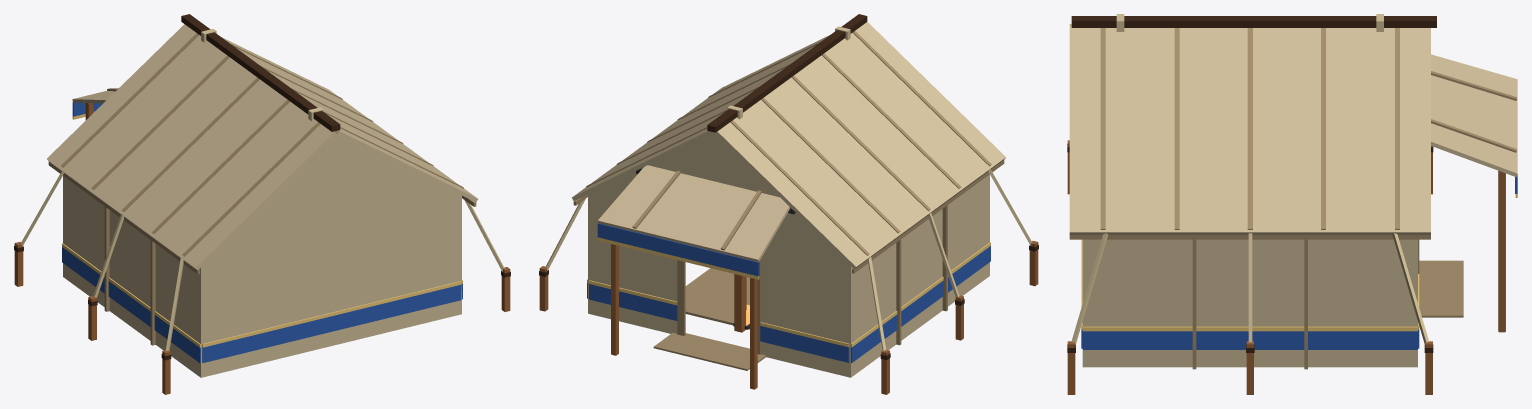
File: 中等帐篷_低模.glb
The picture shows the model from 3 angles, left to right: view 1: azimuth 30°, elevation 25°; view 2: azimuth 150°, elevation 25°; view 3: azimuth 270°, elevation 25°; orthographic projection. The views are drawn at different scales.
Parts seen in each view (by area): view 1: BR-canvas, BR-canvas_dark, BR-team, BR-wood_dark, BR-team_trim, BR-site_rope, BR-wood_warm; view 2: BR-canvas, BR-canvas_dark, BR-team, BR-wood_warm, BR-wood_dark, BR-team_trim, BR-site_rope; view 3: BR-canvas, BR-canvas_dark, BR-team, BR-wood_dark, BR-wood_warm, BR-team_trim, BR-site_rope.
Boxes of the visible parts, box(x1,y1,x2,y2) form: BR-canvas: box(47, 24, 477, 377); BR-canvas_dark: box(48, 33, 476, 345); BR-team: box(62, 102, 462, 363); BR-wood_dark: box(14, 14, 510, 360); BR-team_trim: box(62, 111, 462, 347); BR-site_rope: box(20, 29, 504, 350); BR-wood_warm: box(14, 103, 510, 394); BR-canvas: box(572, 22, 1005, 377); BR-canvas_dark: box(573, 31, 1004, 370); BR-team: box(587, 223, 990, 362); BR-wood_warm: box(539, 241, 1038, 394); BR-wood_dark: box(539, 14, 1038, 360); BR-team_trim: box(587, 237, 990, 347); BR-site_rope: box(545, 26, 1032, 350); BR-canvas: box(1069, 24, 1517, 367); BR-canvas_dark: box(1069, 28, 1516, 369); BR-team: box(1081, 174, 1517, 349); BR-wood_dark: box(1067, 16, 1436, 352); BR-wood_warm: box(1067, 140, 1505, 394); BR-team_trim: box(1081, 193, 1517, 331); BR-site_rope: box(1071, 14, 1428, 344).
Size of the model in its own units: 4.77 by 2.99 by 4.44.
